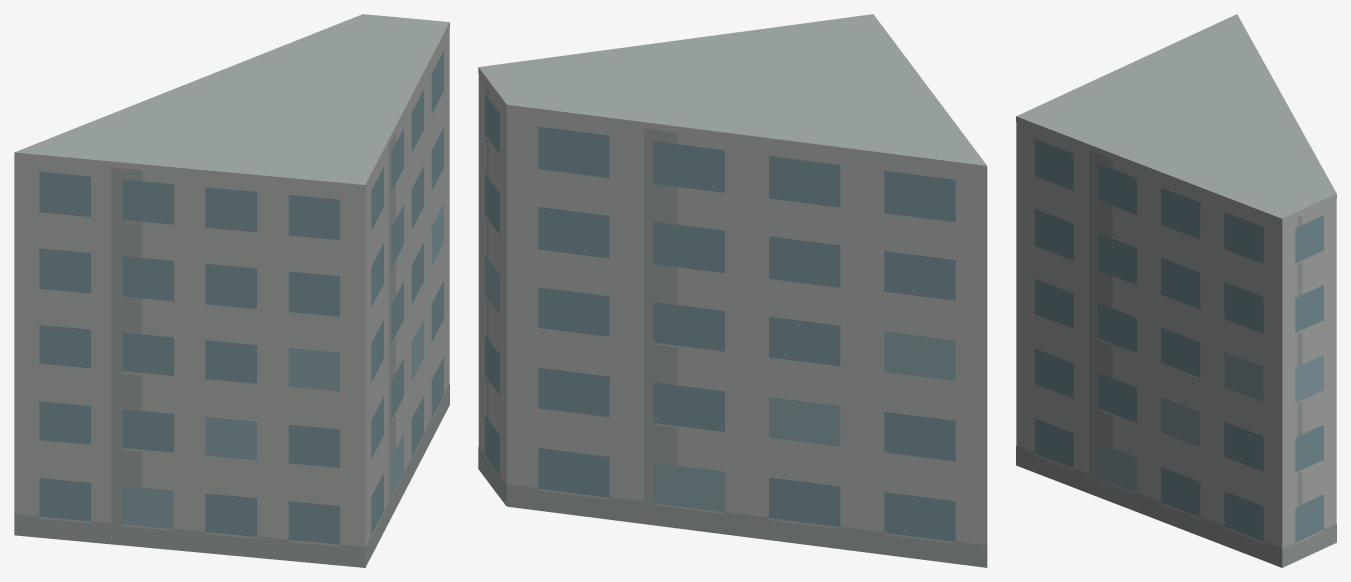
The model's file is residential-8ef64cf8-fbef-4cf7-9500-11f1c7b29e02.glb.
3 renders of one model, left to right at view 1: azimuth 30°, elevation 25°; view 2: azimuth 150°, elevation 25°; view 3: azimuth 270°, elevation 25°, orthographic. The views are drawn at different scales.
Visible parts, largest first — view 1: residential-8ef64cf8-fbef-4cf7-9500-11f1c7b29e02.tmp; view 2: residential-8ef64cf8-fbef-4cf7-9500-11f1c7b29e02.tmp; view 3: residential-8ef64cf8-fbef-4cf7-9500-11f1c7b29e02.tmp.
Boxes of the visible parts, x1,y1,x2,y2 form: residential-8ef64cf8-fbef-4cf7-9500-11f1c7b29e02.tmp: (14, 14, 449, 567); residential-8ef64cf8-fbef-4cf7-9500-11f1c7b29e02.tmp: (478, 14, 987, 567); residential-8ef64cf8-fbef-4cf7-9500-11f1c7b29e02.tmp: (1016, 14, 1336, 567).
Bounding box in the file's own units: 19.19 × 15.25 × 12.7.
